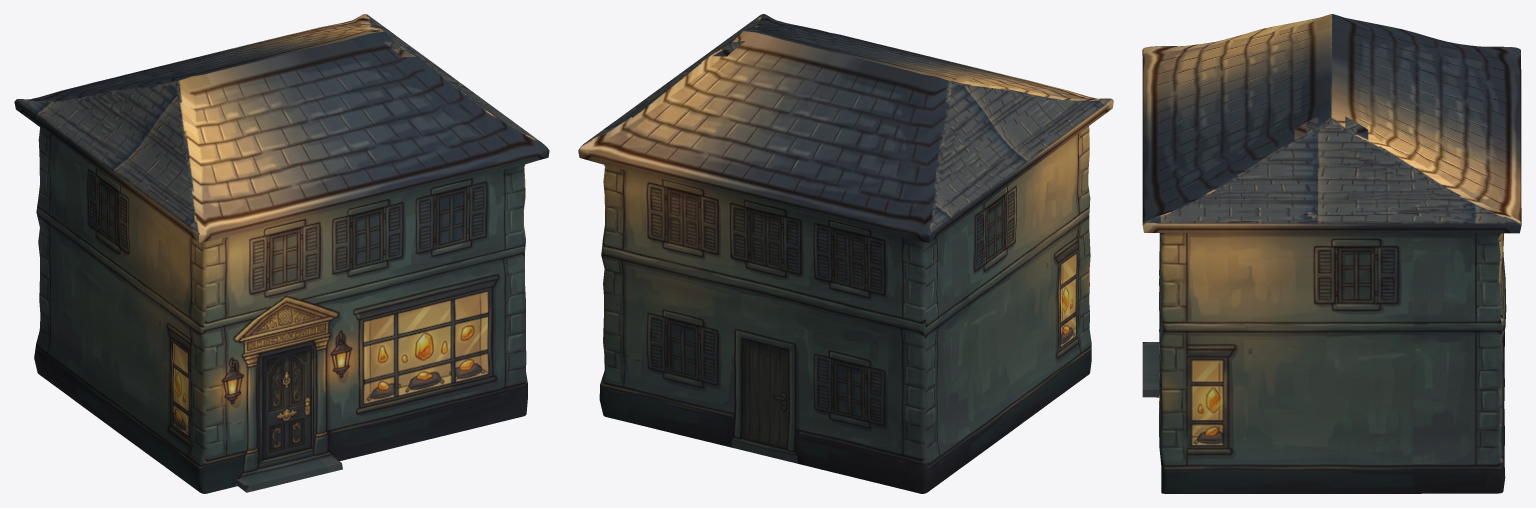
File: havre_comptoir.glb
3 renders of one model, left to right at view 1: azimuth 30°, elevation 25°; view 2: azimuth 150°, elevation 25°; view 3: azimuth 270°, elevation 25°, orthographic. The views are drawn at different scales.
Visible parts, largest first — view 1: maison; view 2: maison; view 3: maison.
Boxes of the visible parts, bbox=[...] form: maison: bbox=[14, 14, 549, 493]; maison: bbox=[578, 14, 1113, 493]; maison: bbox=[1142, 14, 1521, 493].
Size of the model in its own units: 6.75 by 6.24 by 6.15.
1 material, 1 textured.
